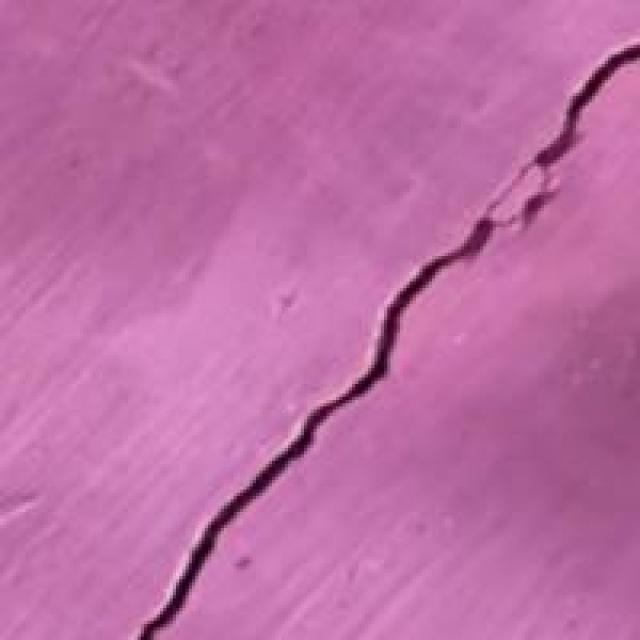Crack: (112, 26, 637, 636)
